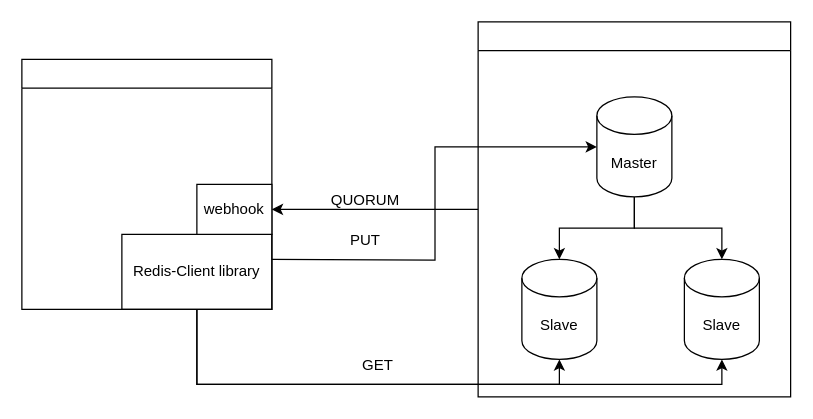
Image size: 813x419. Some labels were removed from this diagram. The shapes that lost their labels are listed below. From the top down, each one's box as (x1, y1, x2, y2) in pixels, then its label:
(21, 58, 272, 309): Client System
(477, 21, 791, 397): Server
